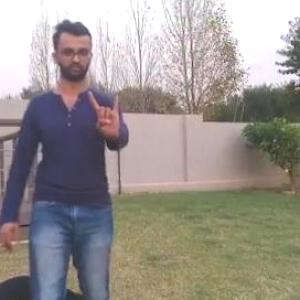takeoff-hand: (82, 83, 129, 141)
